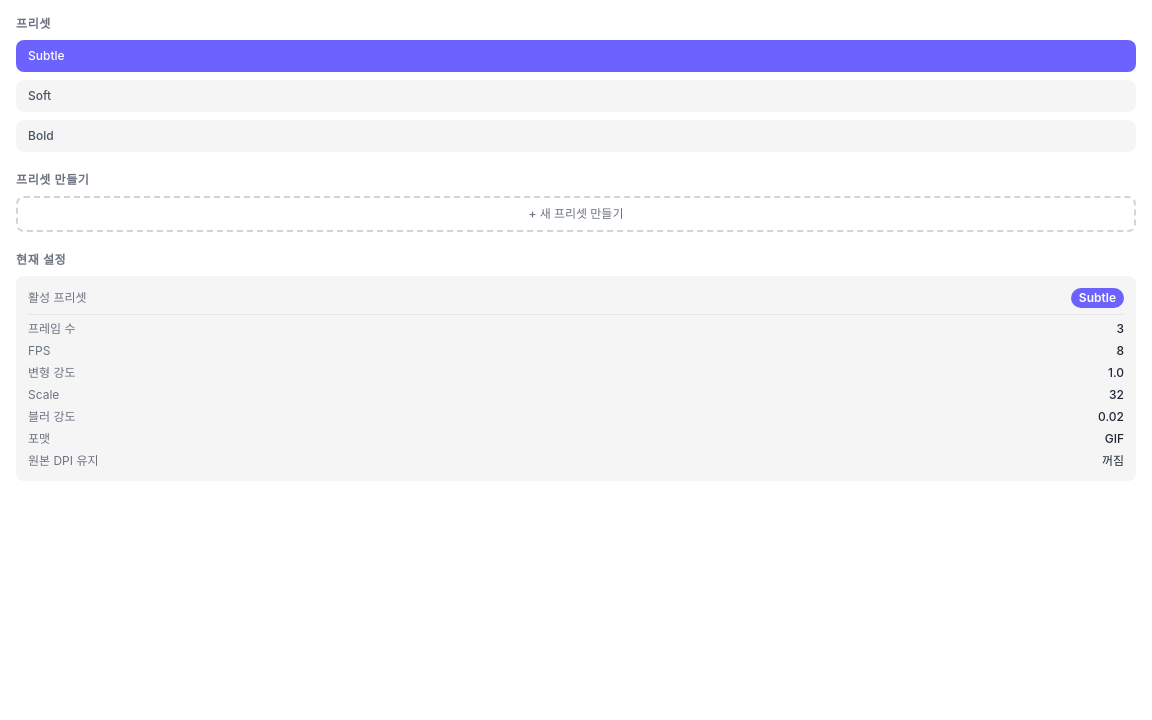
Test case: Sidebar › 이름 입력 후 저장하면 localStorage에 저장된다
The image size is (1152, 720).
Click the button "+ 새 프리셋 만들기". click: point(576, 214)
box: [16, 196, 1136, 232]
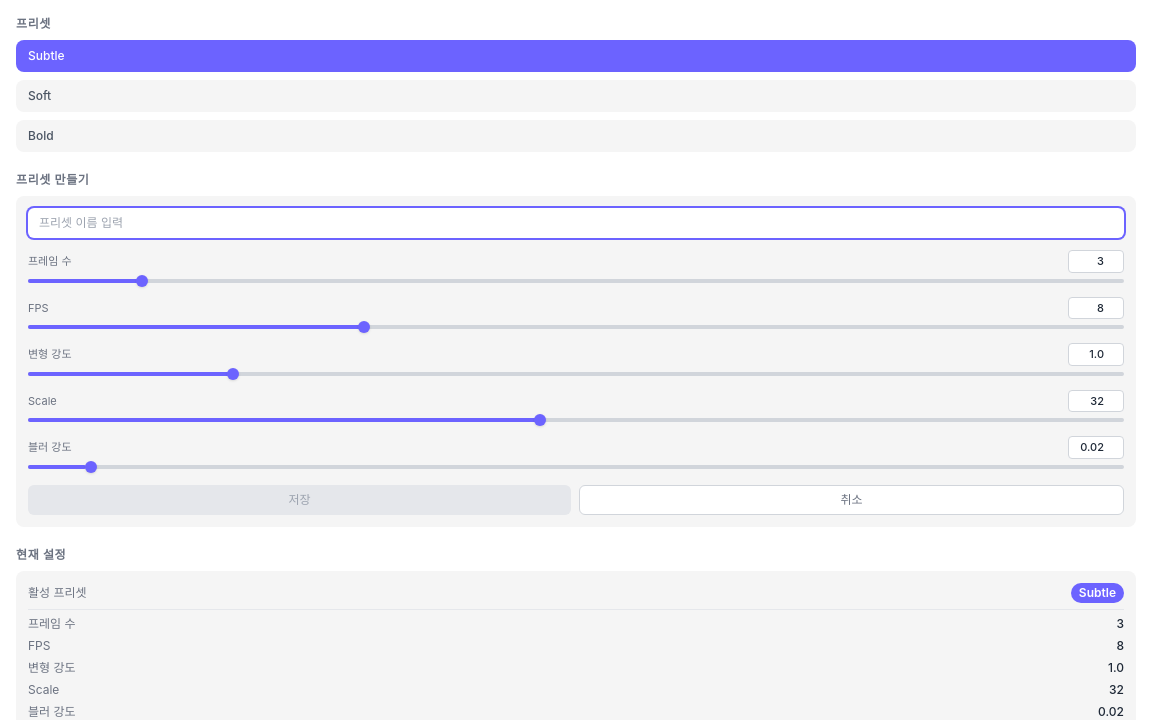
Type "내 프리셋 1" into the field with placeholder "프리셋 이름 입력". click: point(576, 223)
box: [28, 208, 1124, 238]
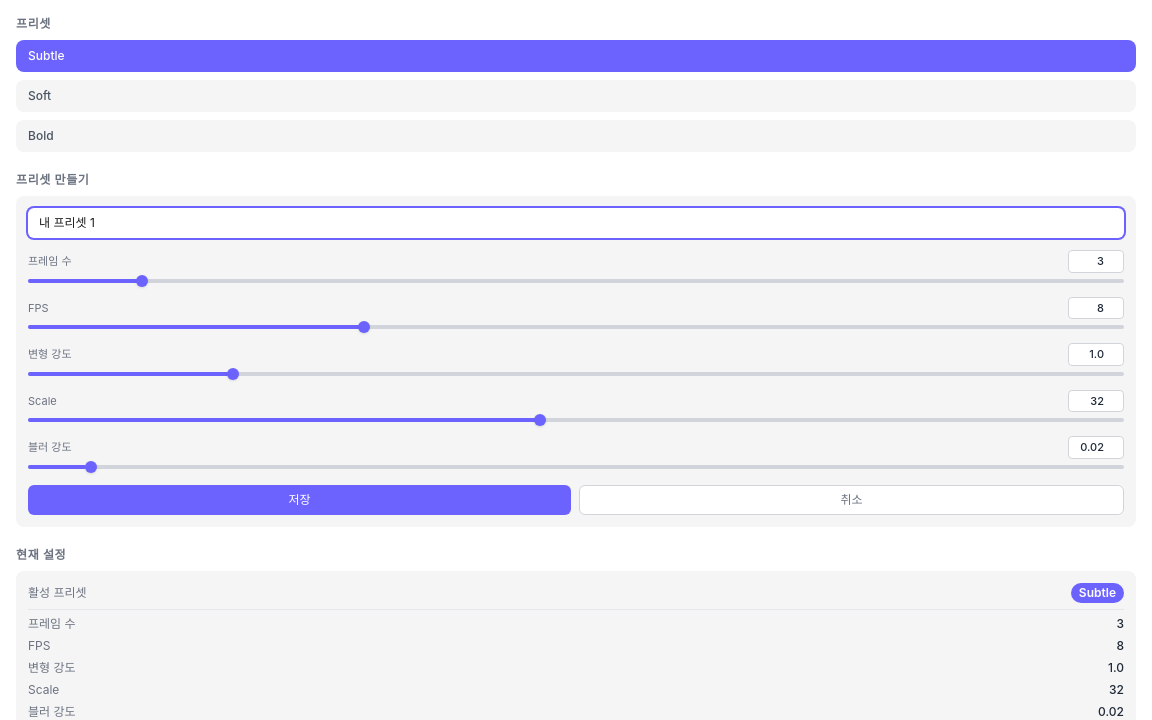
Result: the button "저장" is enabled
Click the button "저장". click: point(300, 500)
box: [28, 484, 571, 514]
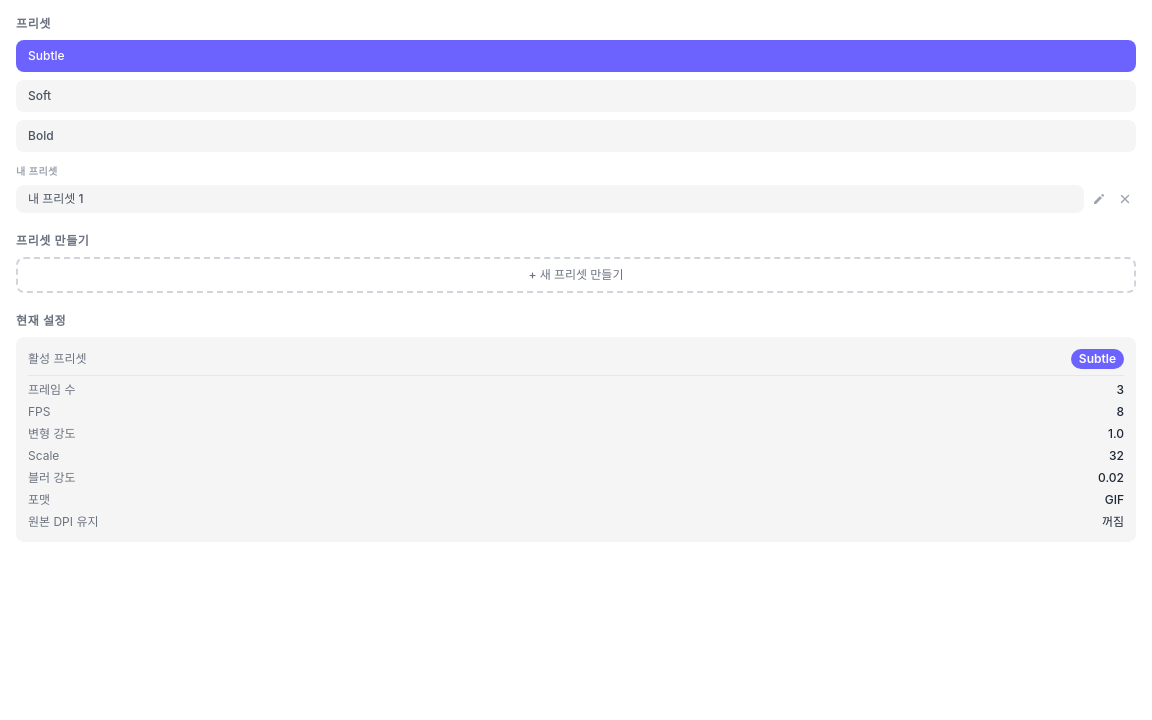
Result: the button "내 프리셋 1" is shown at [16, 185, 1084, 213]
